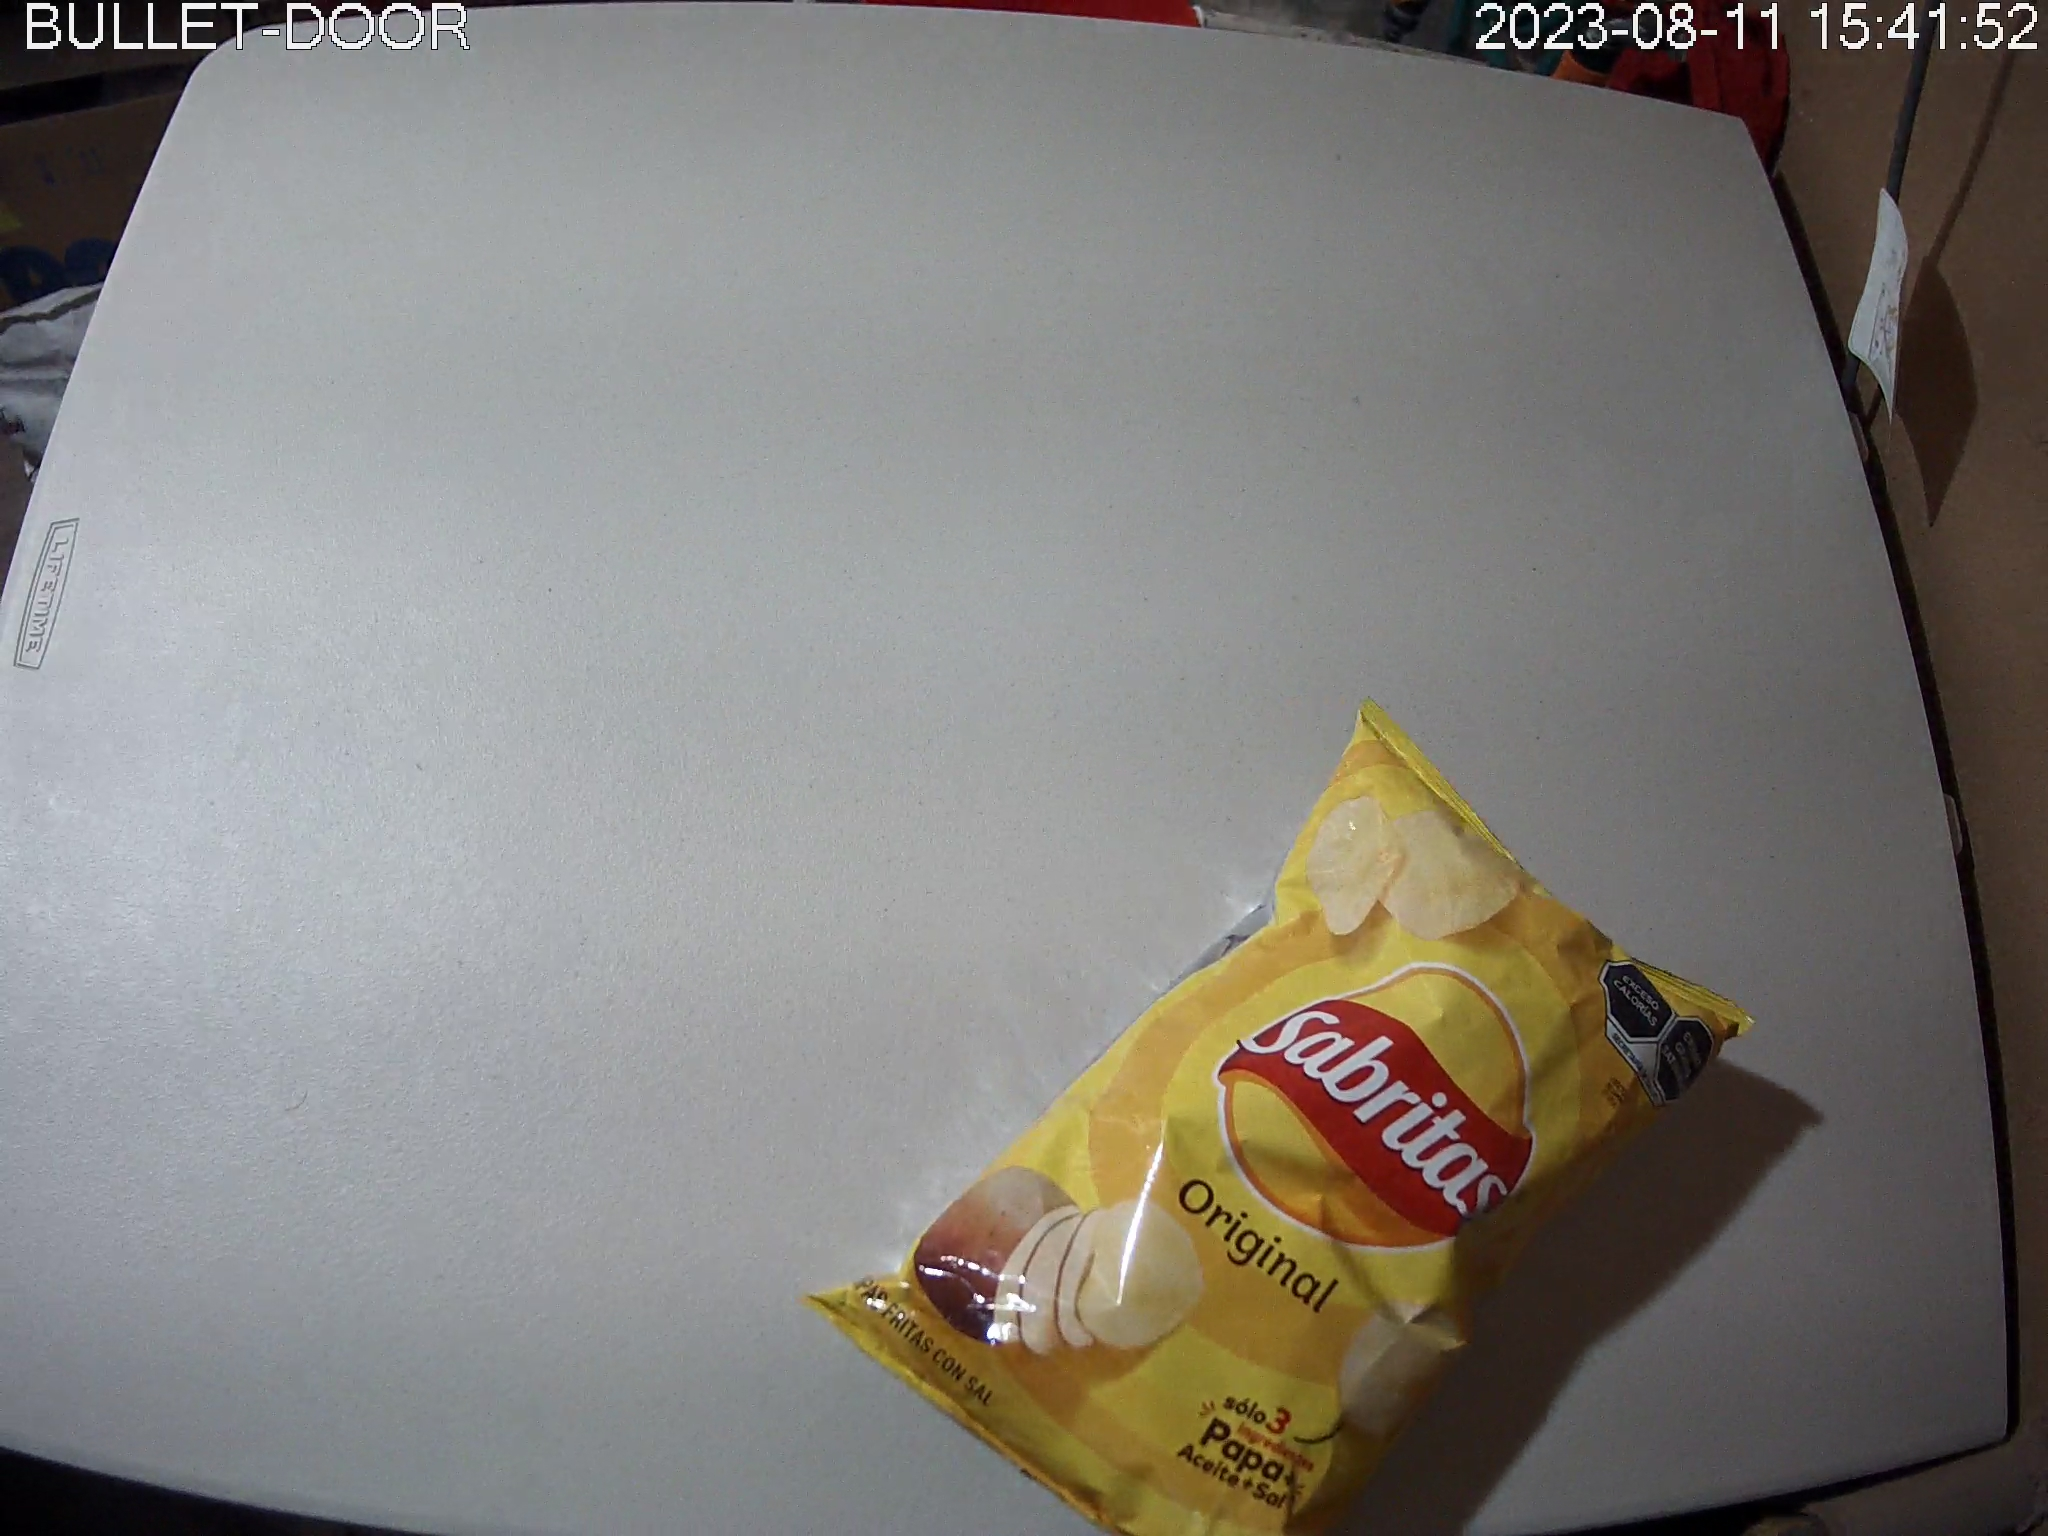Sabritas_160_F: (801, 700, 1759, 1536)
